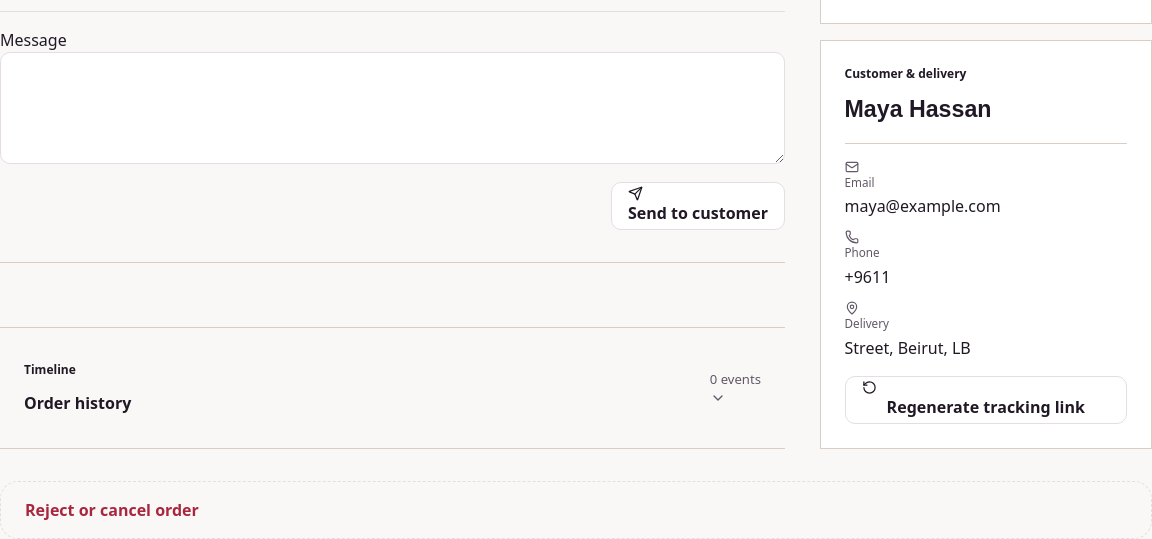
Test: cancelling with an empty reason shows a visible error instead of failing silently
(page scrolled)
Click the heading "Reject or cancel order" at (112, 510), box left=25, top=499, right=199, bottom=521
(page scrolled)
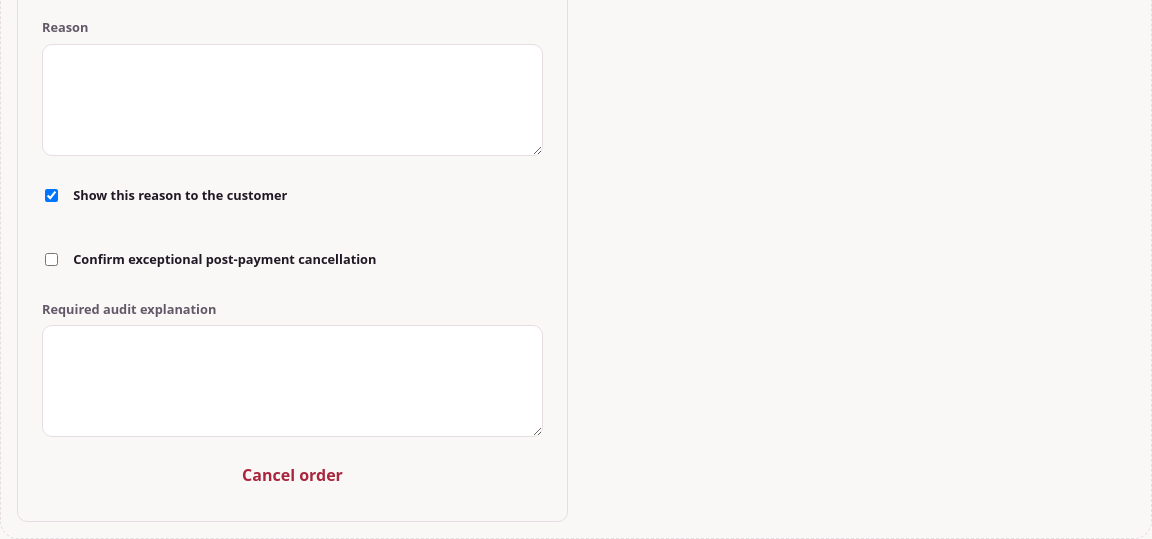
Click the button "Cancel order" at (292, 475), box left=42, top=453, right=543, bottom=497
(page scrolled)
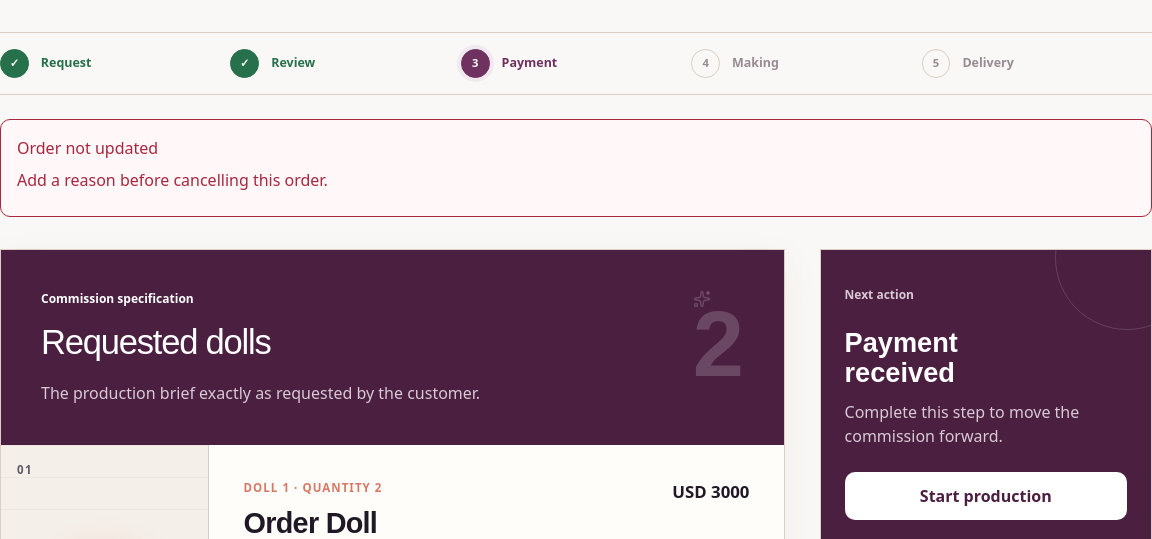
Check: the text "Add a reason before cancelling this order." is shown, box left=17, top=169, right=328, bottom=191
